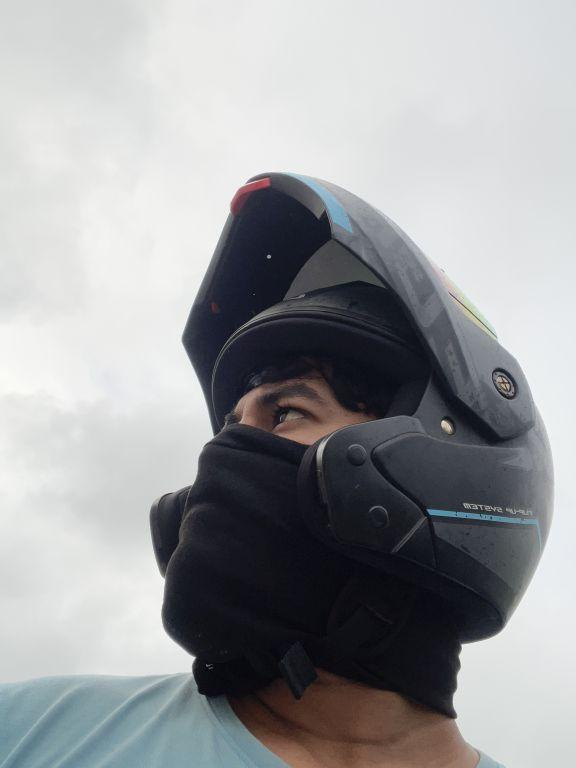helmet: (130, 157, 568, 697)
